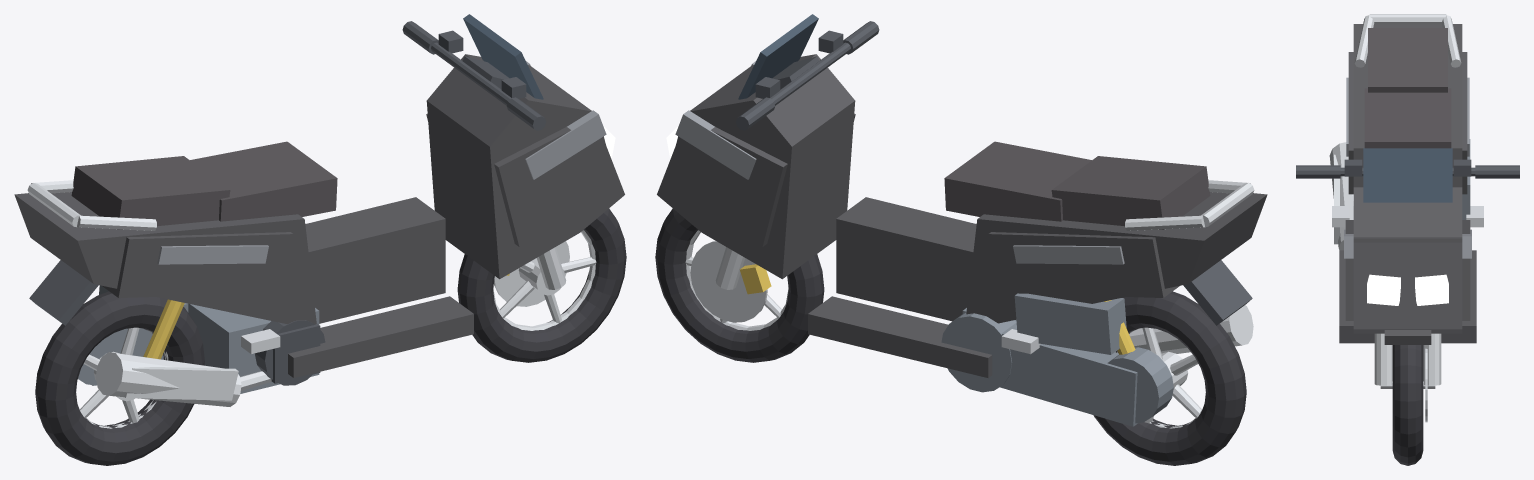
Rendered from honda-pcx-150-abs.glb.
3 views of the same model, side by side, from view 1: azimuth 30°, elevation 25°; view 2: azimuth 150°, elevation 25°; view 3: azimuth 270°, elevation 25° (orthographic). The views are drawn at different scales.
Visible parts, largest first — view 1: Bodi_Utama, Roda_Ban, Jok_Motor, Cover_Knalpot, Aksen_Bodi, Velg_Roda, Master_Rem_Stang, Mesin_Blok, Cover_Radiator, Spakbor_Belakang, Windshield_Visor, Behel_Jok (+5 smaller); view 2: Bodi_Utama, Roda_Ban, Cover_CVT, Jok_Motor, Aksen_Bodi, Master_Rem_Stang, Piringan_Depan, Velg_Roda, Spakbor_Belakang, Windshield_Visor, Behel_Jok, Cover_Knalpot (+3 smaller); view 3: Bodi_Utama, Jok_Motor, Windshield_Visor, Roda_Ban, Master_Rem_Stang, Lampu_Depan, Suspensi_Depan, Behel_Jok, Cover_Knalpot, Aksen_Bodi, Spakbor_Depan, Footstep_Belakang (+1 smaller).
Part boxes in pixels (box(x1,y1,x2,y2)): Bodi_Utama: box(14, 54, 624, 377); Roda_Ban: box(35, 208, 626, 465); Jok_Motor: box(71, 141, 337, 229); Cover_Knalpot: box(95, 352, 271, 406); Aksen_Bodi: box(157, 61, 606, 264); Velg_Roda: box(79, 230, 596, 428); Master_Rem_Stang: box(402, 21, 545, 130); Mesin_Blok: box(188, 303, 319, 393); Cover_Radiator: box(254, 320, 325, 385); Spakbor_Belakang: box(29, 260, 98, 325); Windshield_Visor: box(463, 14, 543, 99); Behel_Jok: box(27, 180, 156, 230); Bodi_Utama: box(657, 54, 1267, 377); Roda_Ban: box(655, 208, 1246, 465); Cover_CVT: box(941, 293, 1173, 426); Jok_Motor: box(944, 141, 1210, 229); Aksen_Bodi: box(675, 61, 1124, 264); Master_Rem_Stang: box(736, 21, 879, 130); Piringan_Depan: box(690, 240, 767, 322); Velg_Roda: box(685, 230, 1202, 428); Spakbor_Belakang: box(1183, 260, 1252, 325); Windshield_Visor: box(738, 14, 818, 99); Behel_Jok: box(1125, 180, 1254, 230); Cover_Knalpot: box(1129, 305, 1253, 353); Bodi_Utama: box(1339, 24, 1476, 343); Jok_Motor: box(1364, 28, 1451, 148); Windshield_Visor: box(1363, 148, 1452, 202); Roda_Ban: box(1392, 345, 1423, 465); Master_Rem_Stang: box(1296, 159, 1519, 178); Lampu_Depan: box(1367, 274, 1448, 305); Suspensi_Depan: box(1374, 333, 1441, 388); Behel_Jok: box(1354, 14, 1461, 67); Cover_Knalpot: box(1329, 142, 1353, 250); Aksen_Bodi: box(1344, 77, 1471, 258); Spakbor_Depan: box(1384, 330, 1431, 344); Footstep_Belakang: box(1332, 206, 1483, 227).
Bounding box in the file's own units: 1.82 × 1 × 0.7.
